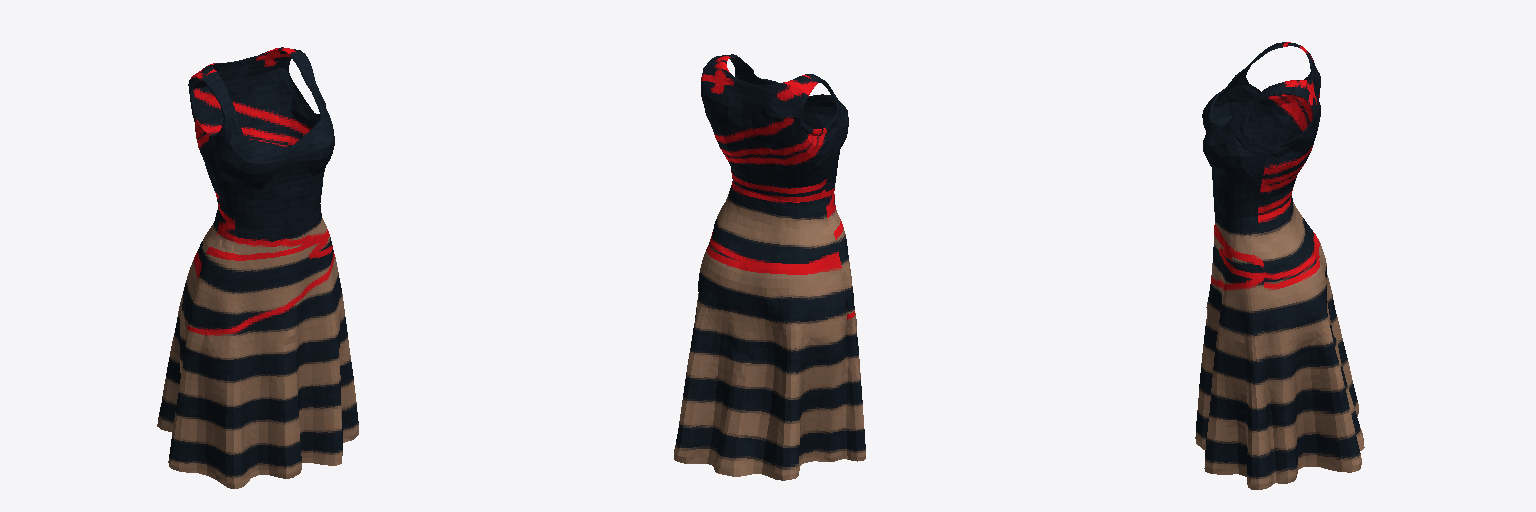
3 views of the same model, side by side, from view 1: azimuth 30°, elevation 25°; view 2: azimuth 150°, elevation 25°; view 3: azimuth 270°, elevation 25° (orthographic).
Bounding box in the file's own units: 49.45 × 99.69 × 39.54.
1 materials, 1 textured.